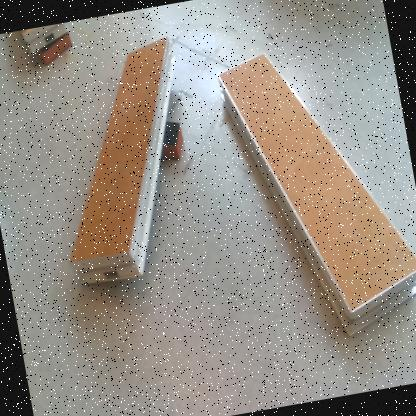Stairs: (221, 51, 416, 340), (70, 36, 175, 286), (21, 23, 70, 55)
